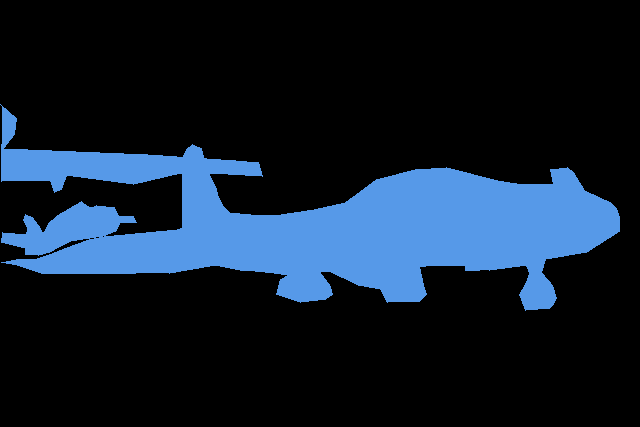Airplane: (1, 144, 620, 310), (0, 104, 262, 192), (1, 201, 137, 255)
